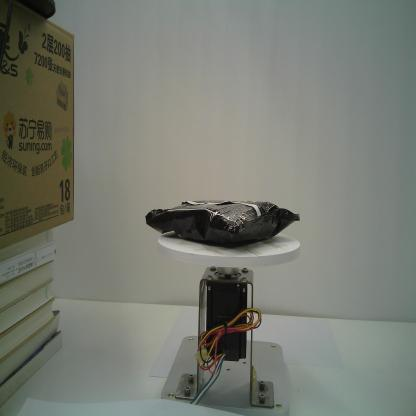Instant Noodles: (142, 196, 302, 250)
